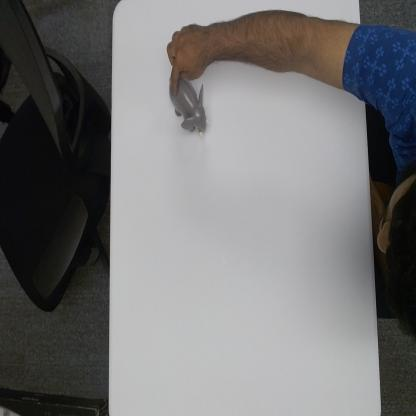Arm: (209, 9, 356, 87)
Elephant: (168, 75, 210, 141)
Hand: (168, 20, 210, 97)
